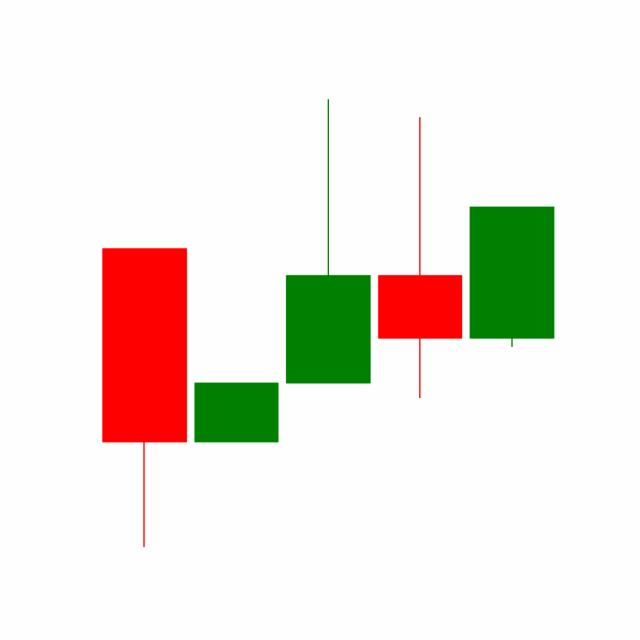Marubozu: (464, 205, 558, 349)
